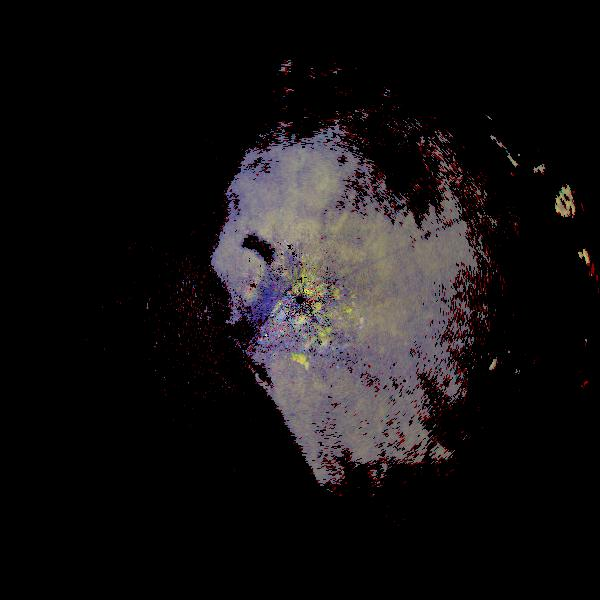roost: (333, 290, 375, 332), (276, 350, 318, 392), (310, 328, 340, 358)
